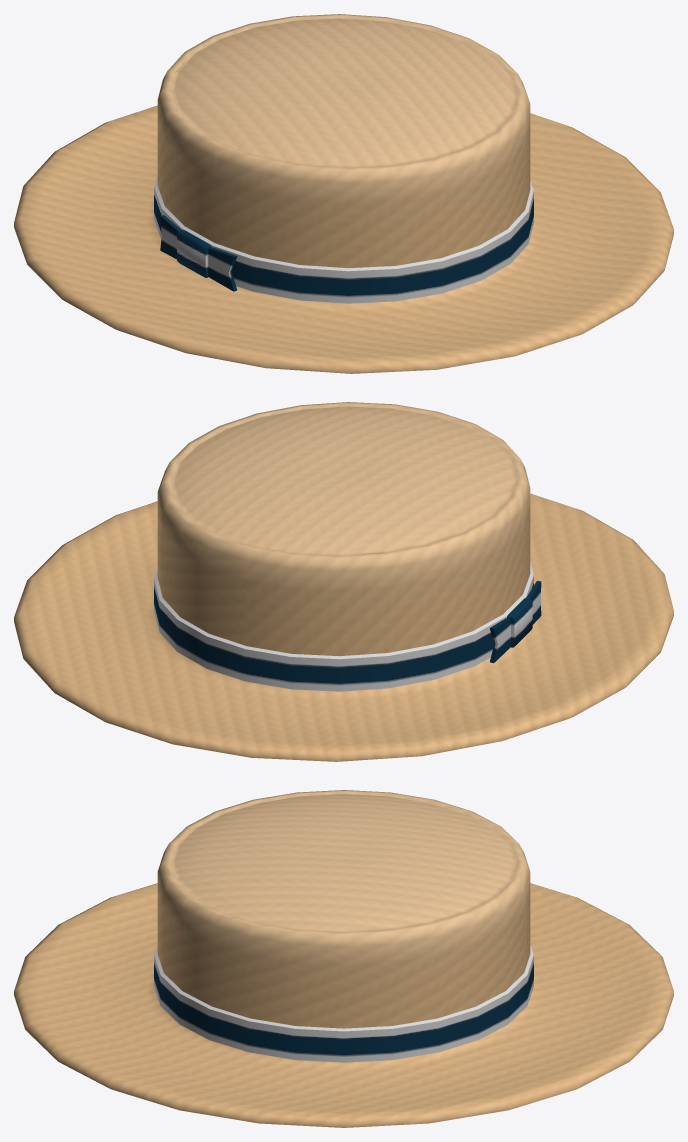
File: BoaterHat.FBX
3 views of the same model, one above another, from view 1: azimuth 30°, elevation 25°; view 2: azimuth 150°, elevation 25°; view 3: azimuth 270°, elevation 25° (orthographic). The views are drawn at different scales.
Parts seen in each view (by area): view 1: BoaterHat; view 2: BoaterHat; view 3: BoaterHat.
Boxes of the visible parts, left/top/right/bottom form: BoaterHat: left=14, top=14, right=673, bottom=373; BoaterHat: left=14, top=402, right=673, bottom=761; BoaterHat: left=14, top=790, right=673, bottom=1127.
Bounding box in the file's own units: 57.1 × 15.25 × 60.14.
Materials: 1 (1 with a texture image).
